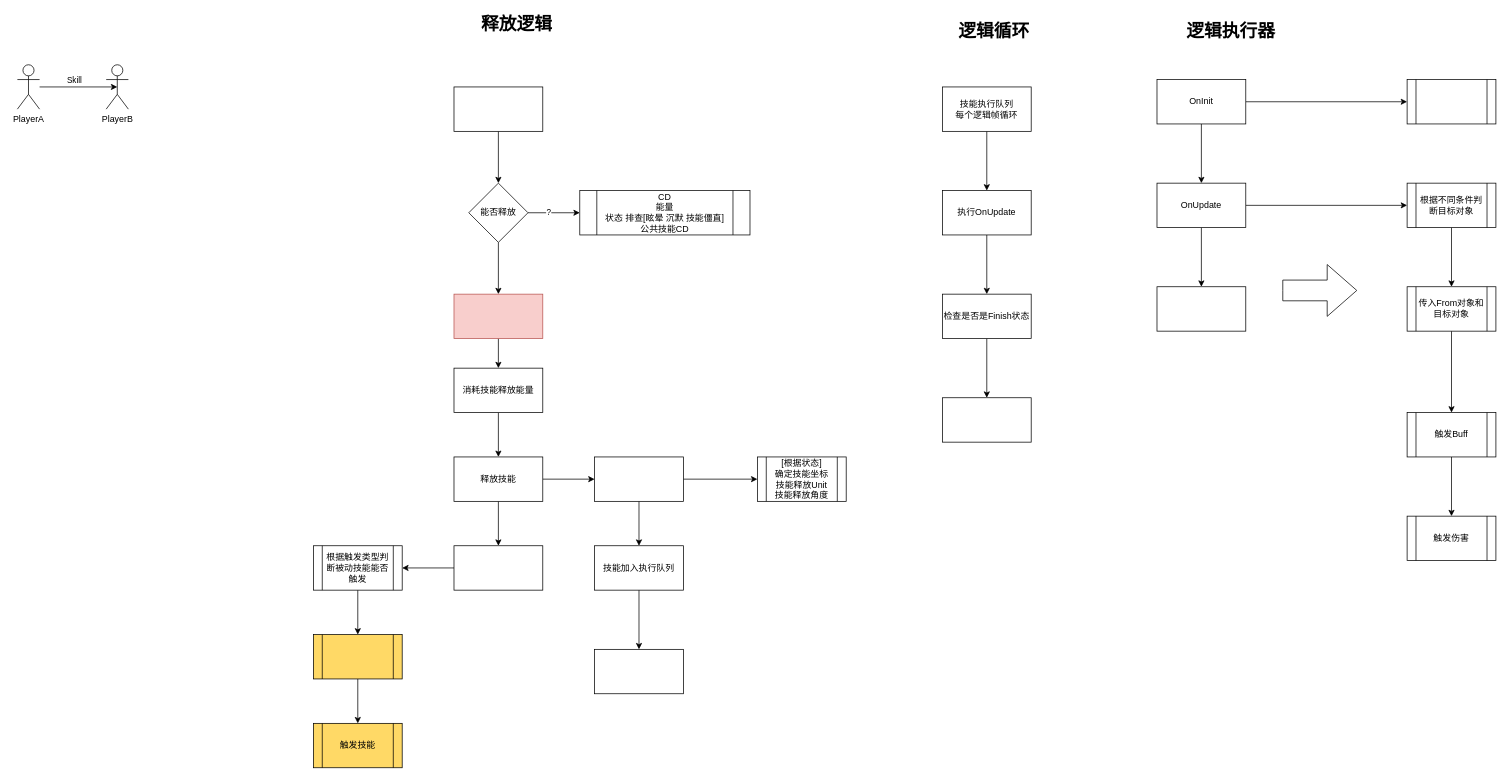
Image size: 1509x781. Some labels were removed from this diagram. The box of each missing label's shape, as (x1, y1, x2, y2) in pixels:
CD值更新: (942, 397, 1031, 442)
OnFinish: (1156, 286, 1246, 331)
初始化技能信息: (594, 456, 683, 501)
基本流程: (1282, 264, 1357, 316)
打断其他技能: (453, 293, 543, 339)
执行初始化函数: (594, 649, 683, 694)
技能释放: (453, 86, 543, 131)
触发对自己释放的Buff: (1406, 79, 1496, 124)
触发被动技能: (453, 545, 543, 590)
设置参数: (313, 634, 402, 679)
